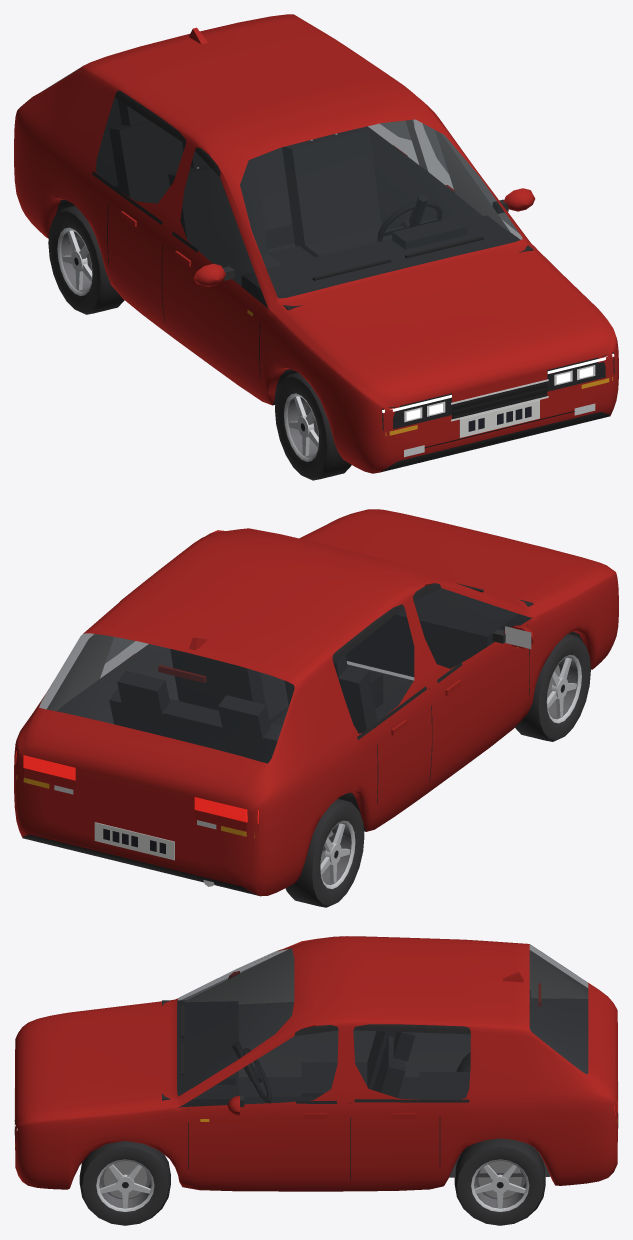
File: hatchback_red.glb
3 views of the same model, one above another, from view 1: azimuth 30°, elevation 25°; view 2: azimuth 150°, elevation 25°; view 3: azimuth 270°, elevation 25° (orthographic). The views are drawn at different scales.
Parts seen in each view (by area): view 1: hatchback_red_body, Wheel_RR, Wheel_FR; view 2: hatchback_red_body, Wheel_RR, Wheel_FR; view 3: hatchback_red_body, Wheel_RL, Wheel_FL.
Part boxes in pixels (bbox=[...]): hatchback_red_body: bbox=[14, 14, 618, 473]; Wheel_RR: bbox=[48, 205, 124, 314]; Wheel_FR: bbox=[275, 372, 351, 480]; hatchback_red_body: bbox=[14, 509, 618, 896]; Wheel_RR: bbox=[285, 799, 364, 907]; Wheel_FR: bbox=[515, 634, 590, 741]; hatchback_red_body: bbox=[14, 936, 618, 1191]; Wheel_RL: bbox=[454, 1138, 545, 1225]; Wheel_FL: bbox=[79, 1141, 170, 1225].
Bounding box in the file's own units: 0.1105 × 0.0755 × 0.2058.
8 materials, 1 textured.
